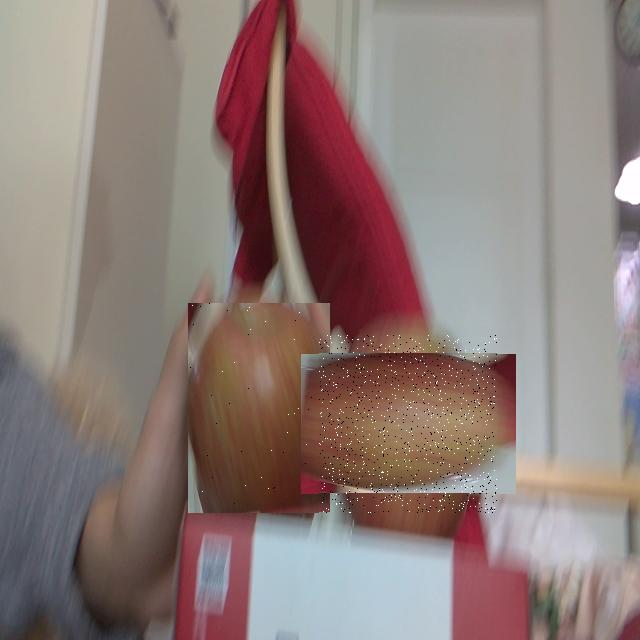apple: (319, 336, 497, 514), (188, 303, 330, 513)
